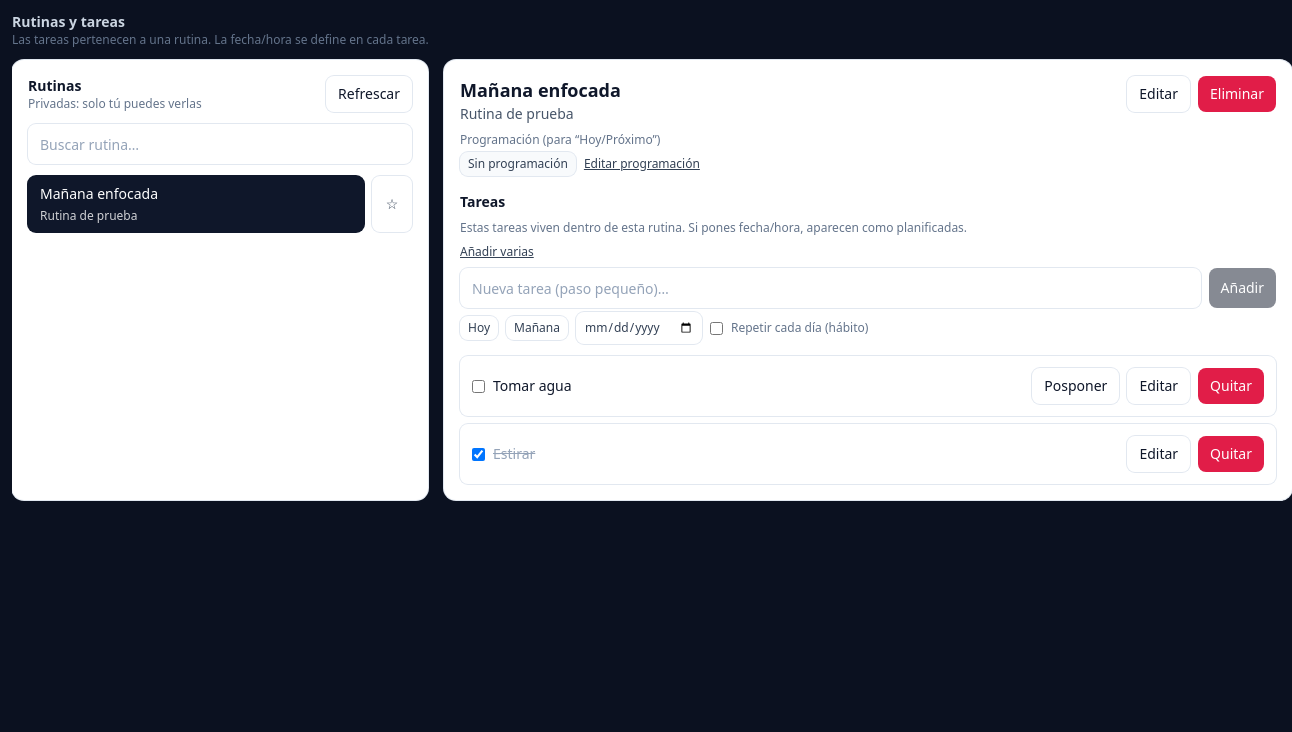
RoutinePanel with a selected routine › opens and closes the schedule editor for the selected routine
Expected: the heading "Mañana enfocada" is shown, 460,78 -> 621,102
Click the button "Editar programación" at (642, 164), box 584,156 -> 700,172
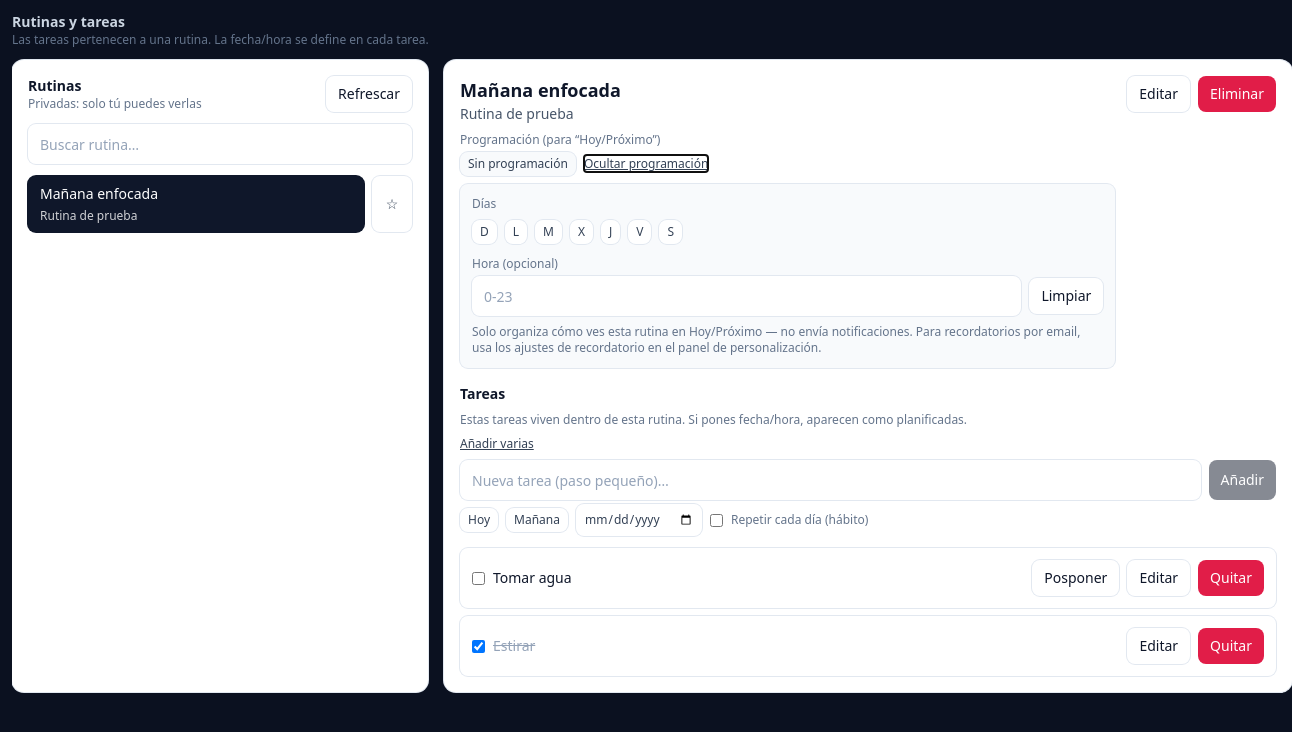
Expected: the text "Días" is shown, 472,195 -> 496,212
Click the button "Ocultar programación" at (646, 164), box 584,156 -> 708,172
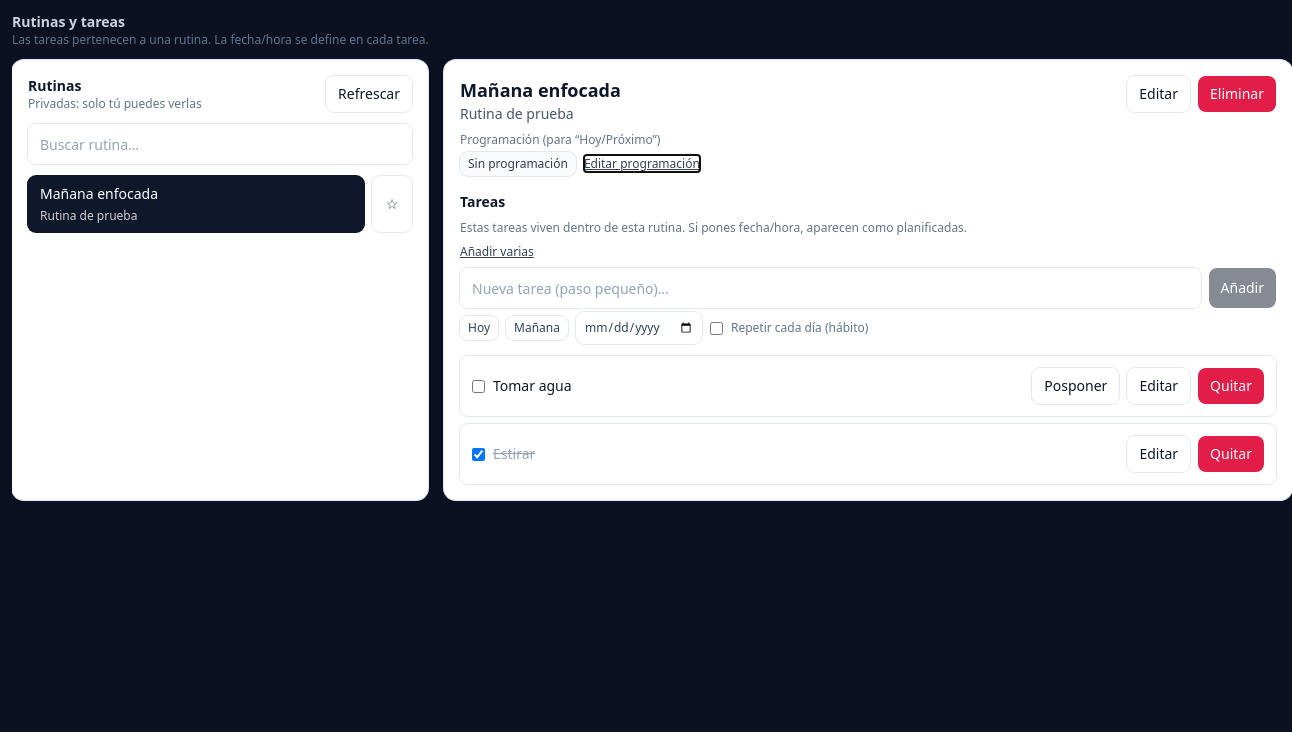
Expected: the text "Días" is gone
